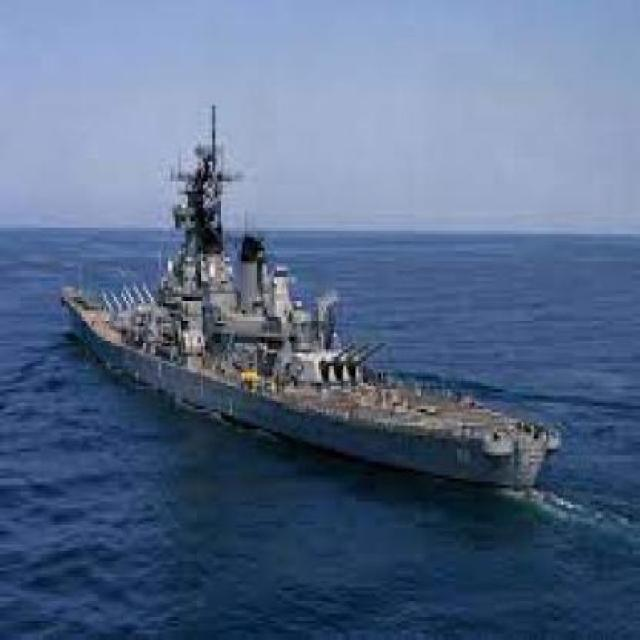warship2: (48, 104, 562, 510)
